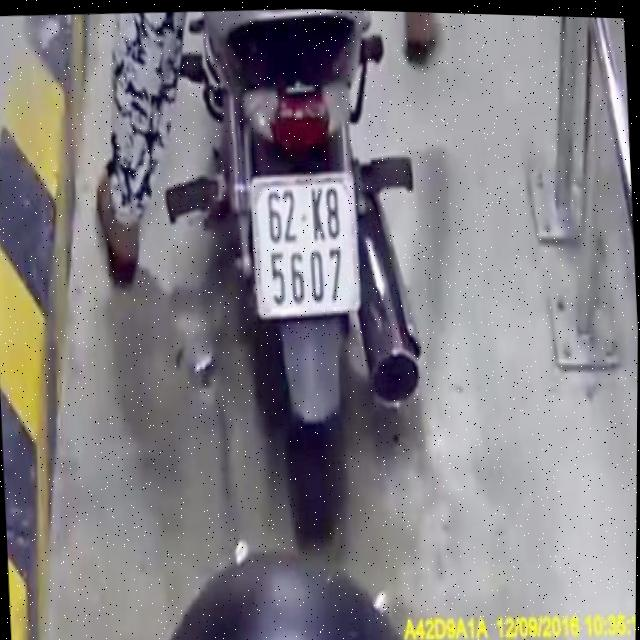motorcycle: (160, 5, 449, 561)
plate: (244, 165, 367, 326)
